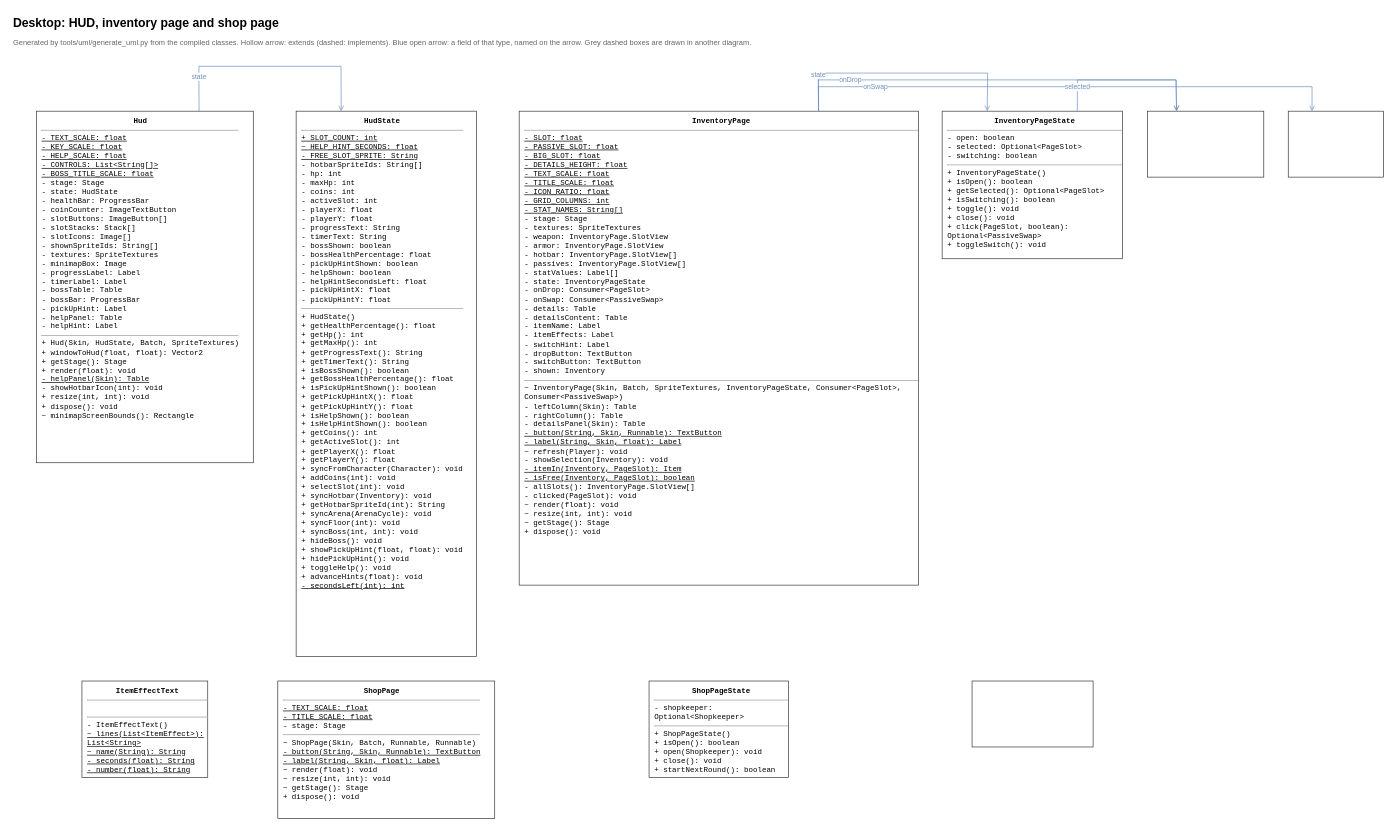
Some shapes in this 1395 by 830 pixel diagram are drawn without their labels. The box of each missing label's shape, as (x1, y1, x2, y2) in pixels:
UiSkinFactory - HUD_SKIN_PATH: String - UiSkinFactory() + loadHudSkin(): Skin: (971, 680, 1093, 747)
«record» PageSlot - kind: PageSlot.Kind - index: int + isPassive(): boolean: (1147, 111, 1264, 177)
«record» PassiveSwap - from: int - to: int: (1288, 111, 1383, 177)
